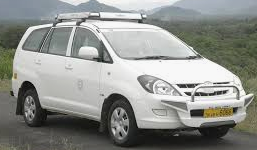car: (9, 11, 254, 144)
